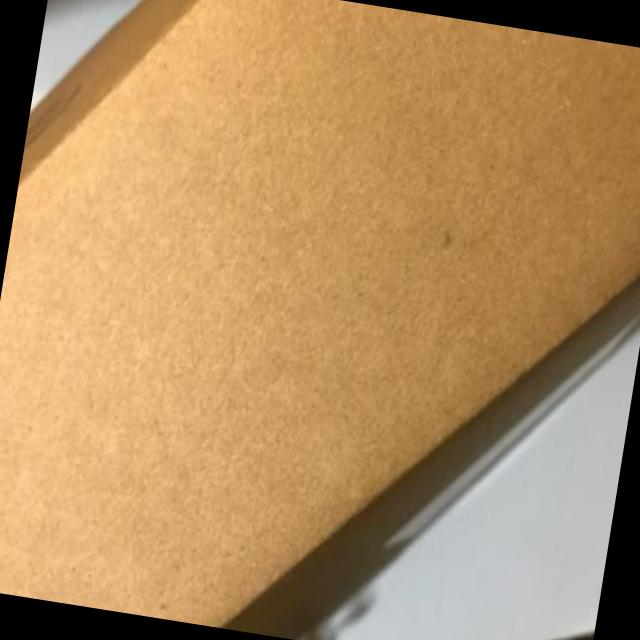cardboard paper: (0, 0, 640, 628)
